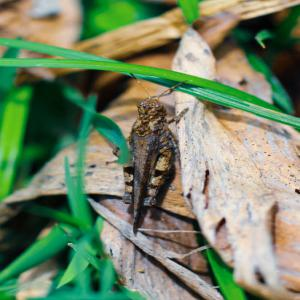locust: (98, 60, 200, 234)
